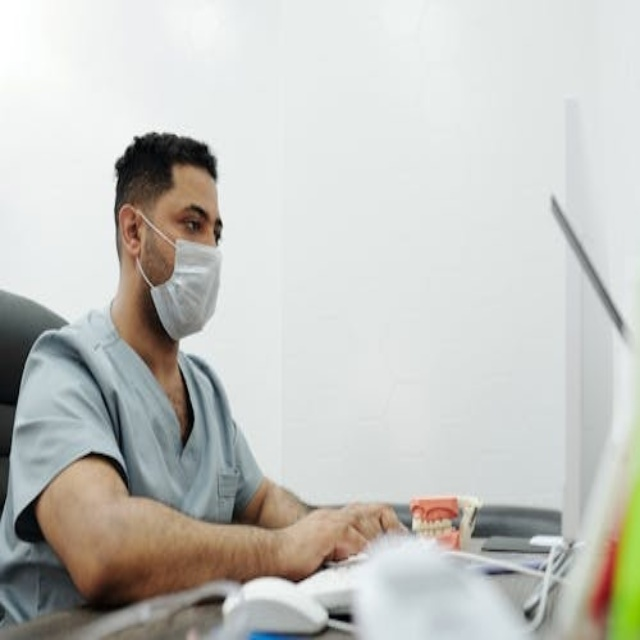Mascara: (135, 208, 221, 341)
Sin_gafas: (168, 196, 227, 242)
Sin_guantes: (270, 490, 404, 582)
